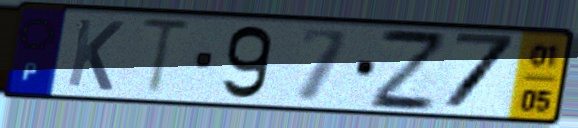7: (445, 29, 520, 116), (295, 26, 351, 104)
9: (220, 24, 275, 101)
K: (63, 15, 127, 94)
T: (137, 15, 196, 100)
Z: (367, 26, 447, 113)
